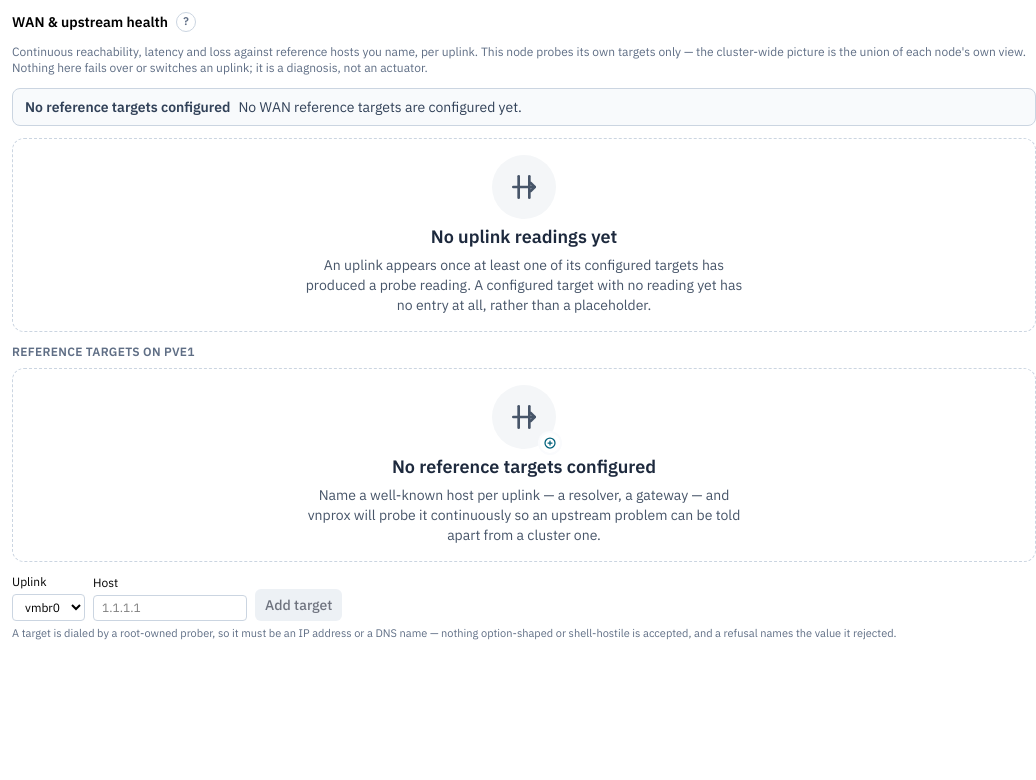
Test: WanHealthPanel › surfaces a refused target host by name
Step 1. Type "--evil" into the field labelled "Host" → (170, 608), box top-left (93, 595), bottom-right (247, 621)
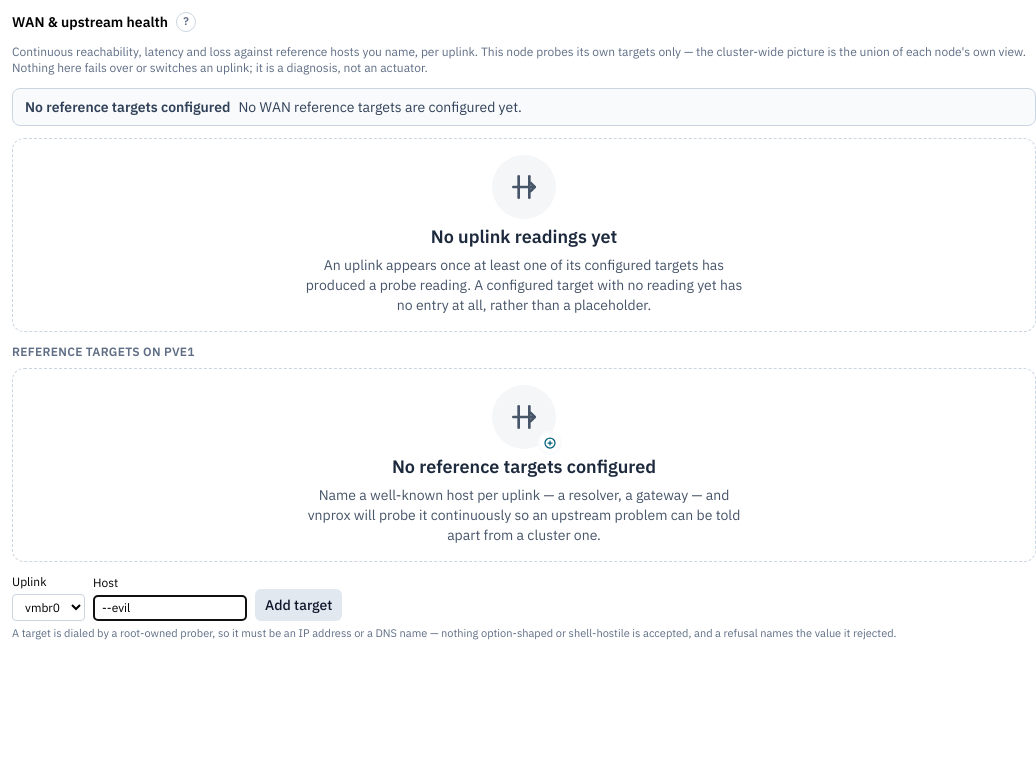
Step 2. Click the button "Add target" → (299, 605), box top-left (255, 589), bottom-right (342, 621)
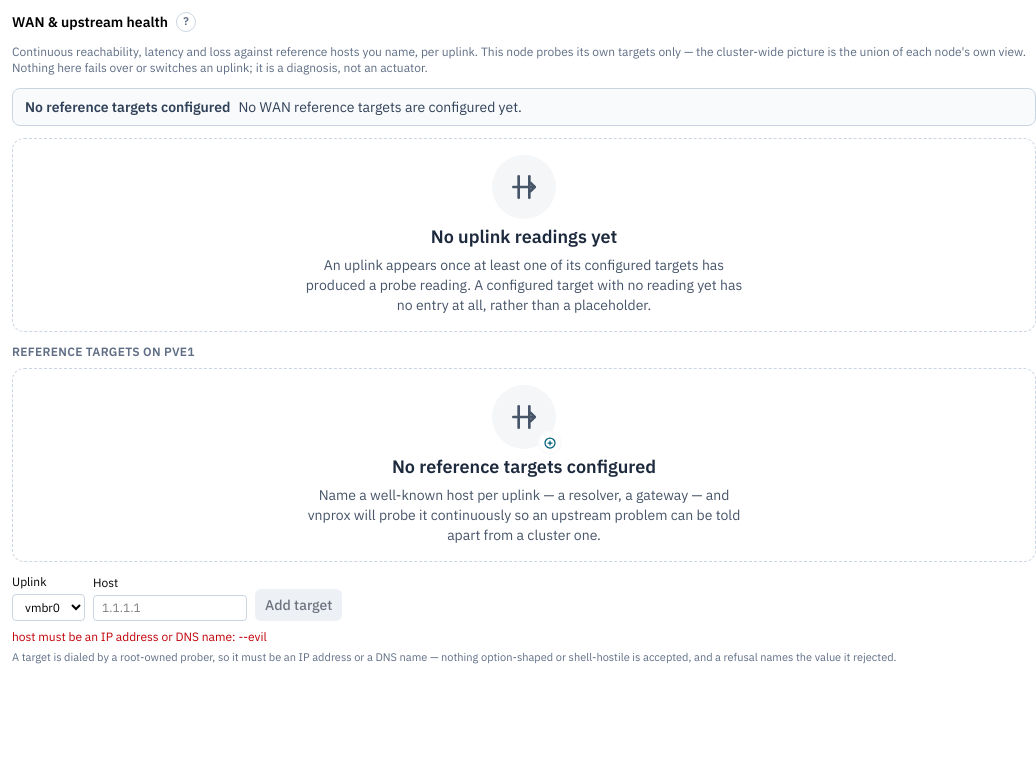
Expected: the message with test id "wan-target-refusal" reads "host must be an IP address or DNS name: --evil", top-left (12, 629), bottom-right (267, 644)
